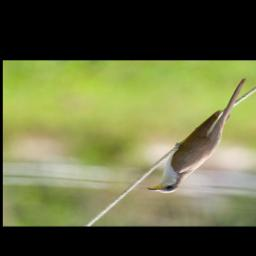Cuckoo: (145, 74, 250, 194)
